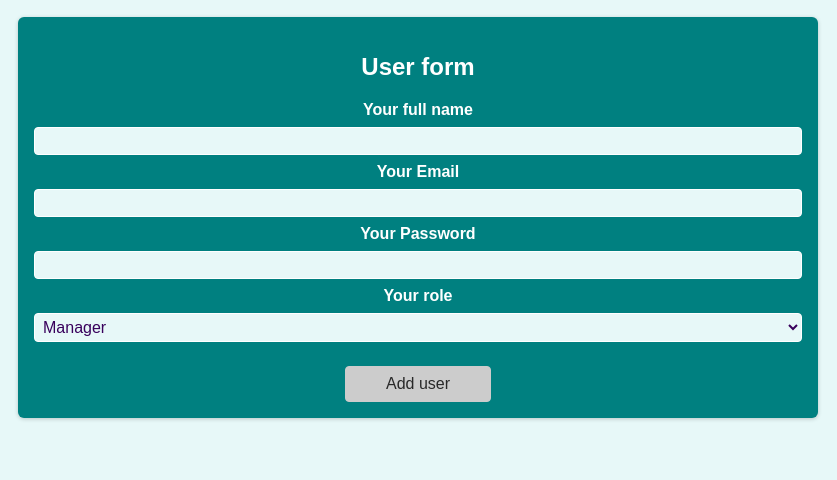
Test case: UserForm › renders email error if email format is invalid
Type "asfdasfd" into the field named "email-input". click: (418, 203)
box: [34, 189, 802, 217]
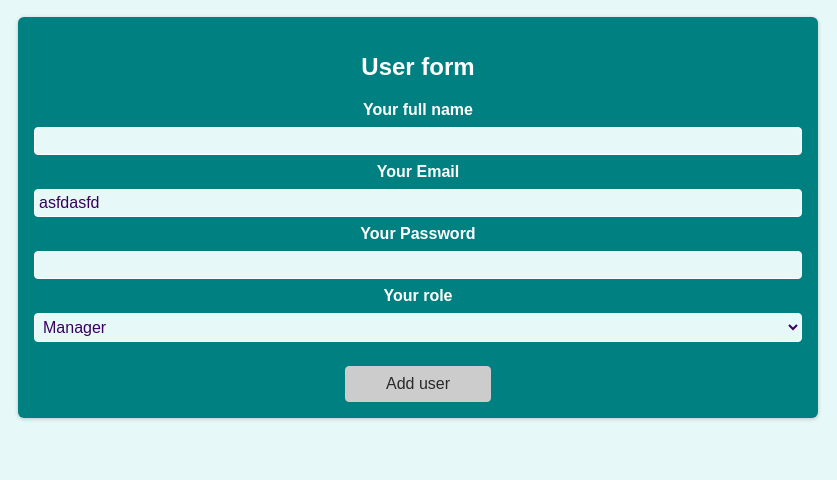
Leave the field named "email-input", box [34, 189, 802, 217]
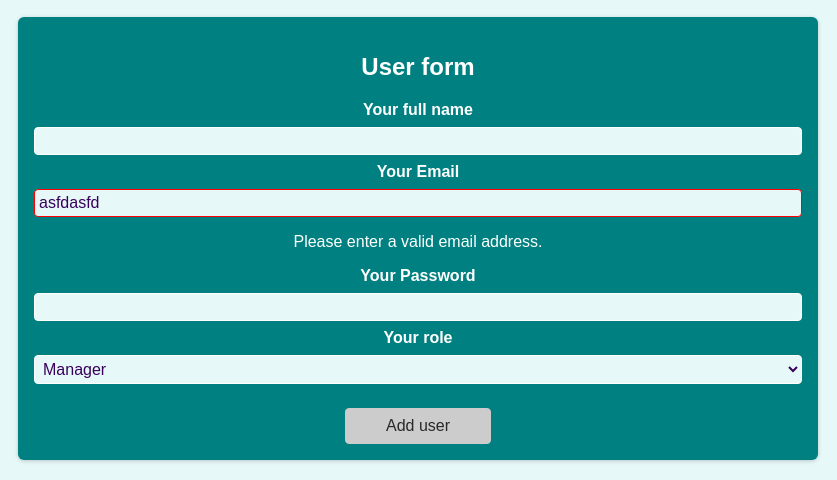
Expected: the text "Please enter a valid email address." is shown, [294, 233, 542, 250]
